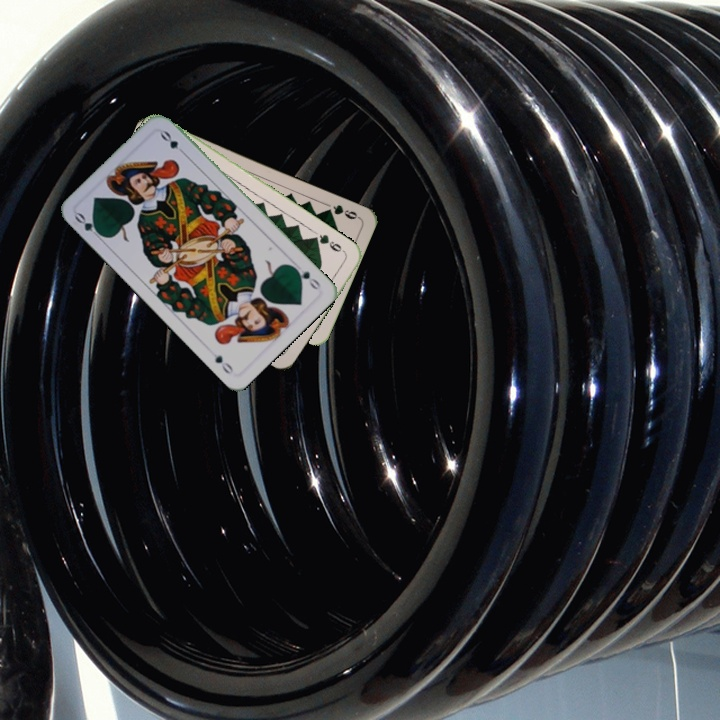G9: (309, 230, 348, 257), (321, 200, 362, 222)
GO: (71, 209, 106, 242), (289, 262, 324, 293)
